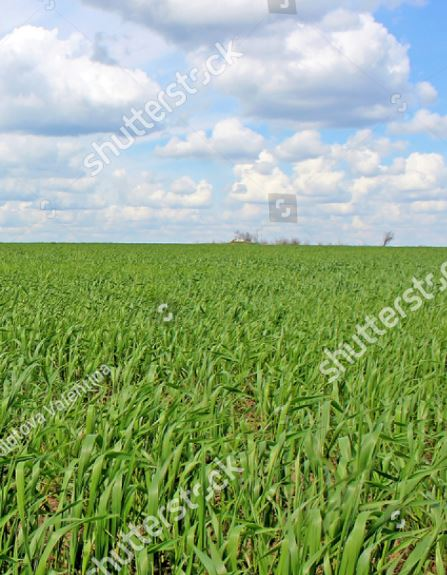Wheat: (301, 398, 437, 575)
